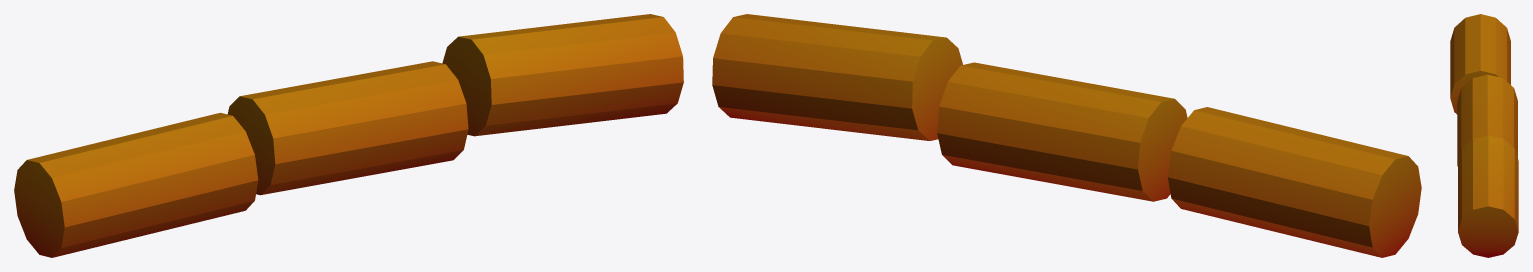
The model's file is column_fallen.glb.
3 views of the same model, side by side, from view 1: azimuth 30°, elevation 25°; view 2: azimuth 150°, elevation 25°; view 3: azimuth 270°, elevation 25° (orthographic). The views are drawn at different scales.
Parts seen in each view (by area): view 1: column_fallen; view 2: column_fallen; view 3: column_fallen.
Part boxes in pixels (x1,y1,x2,y2): column_fallen: [14, 14, 683, 257]; column_fallen: [712, 14, 1421, 257]; column_fallen: [1450, 14, 1518, 257].
Size of what is drawn, in the model's own units: 4.17 by 0.7291 by 0.6527.
